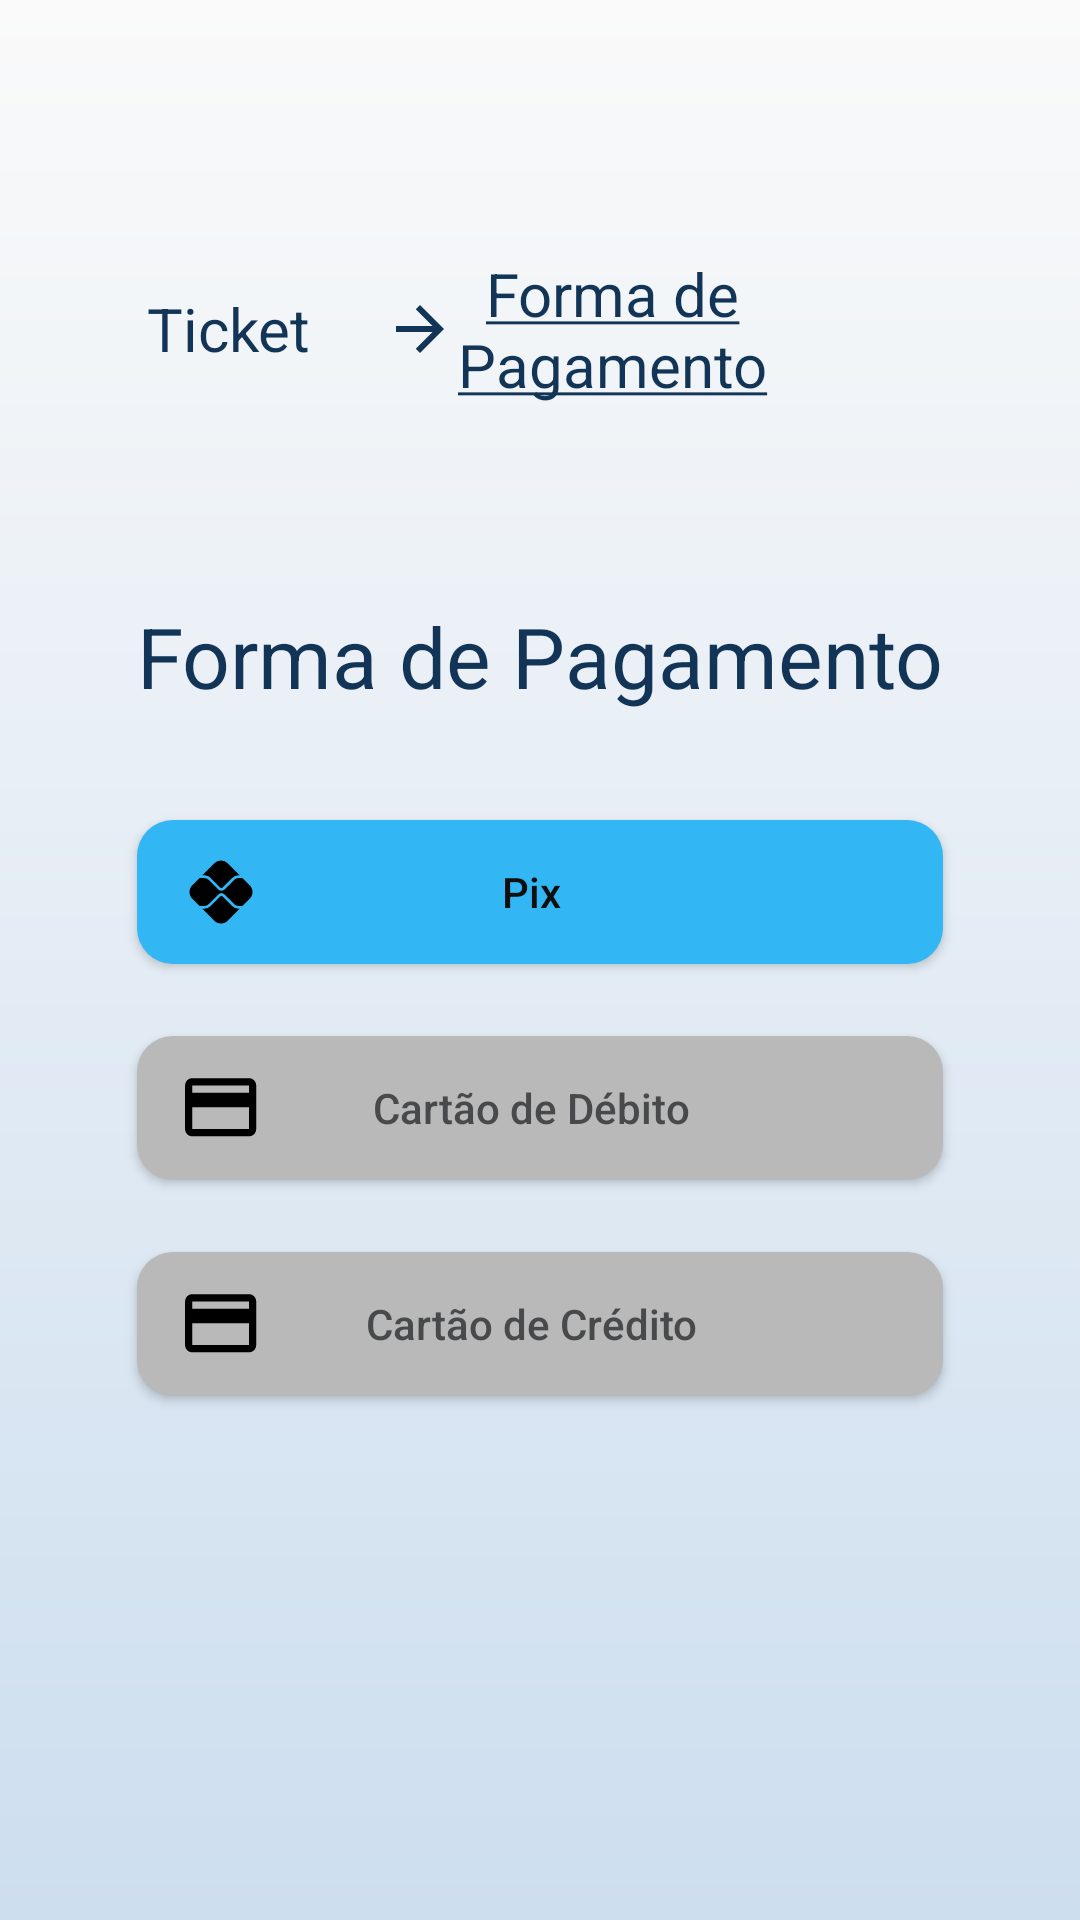

Screen size 1080 × 1920. Icon name, then its box in pixels as (left=x1, top=y1, right=x2, bottom=y2):
arrow forward: (left=396, top=305, right=444, bottom=353)
